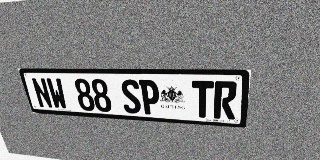8: (73, 78, 96, 111), (90, 79, 113, 112)
N: (30, 78, 54, 109)
P: (139, 80, 161, 115)
R: (213, 81, 238, 120)
S: (120, 79, 142, 114)
T: (192, 81, 214, 118)
W: (45, 78, 69, 109)
